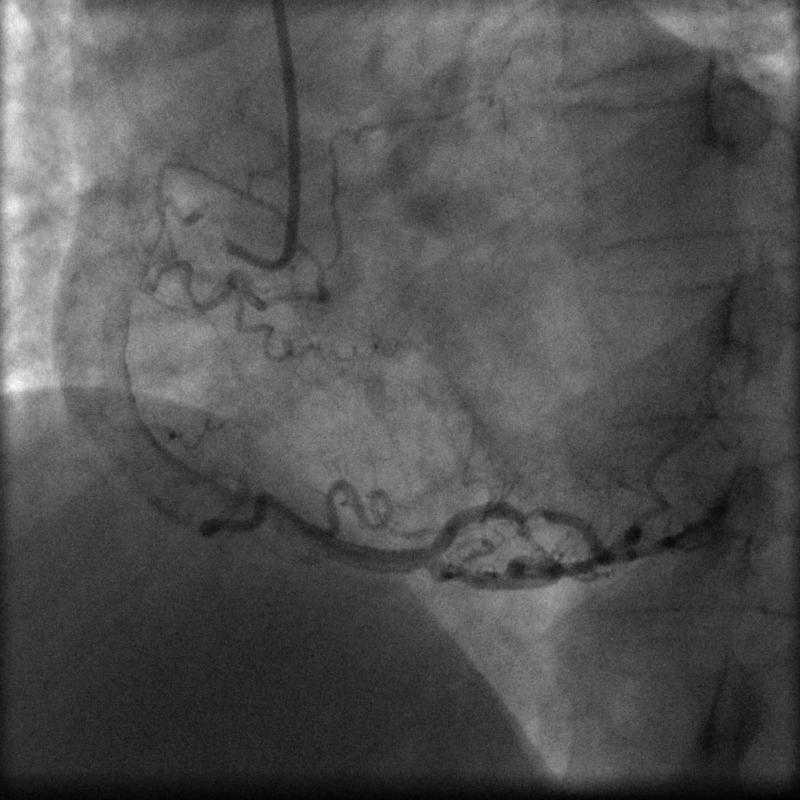Stenosis: (500, 497, 545, 528)
